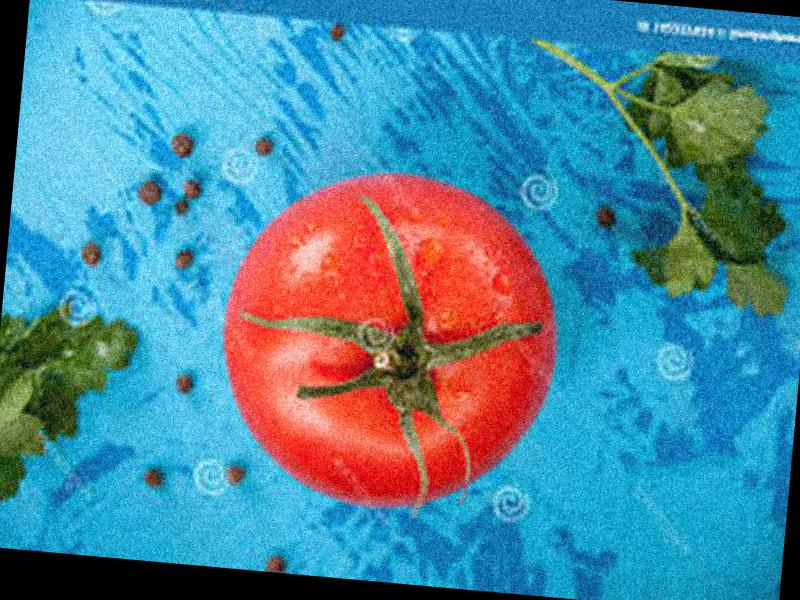Tomato: (210, 159, 570, 519)
